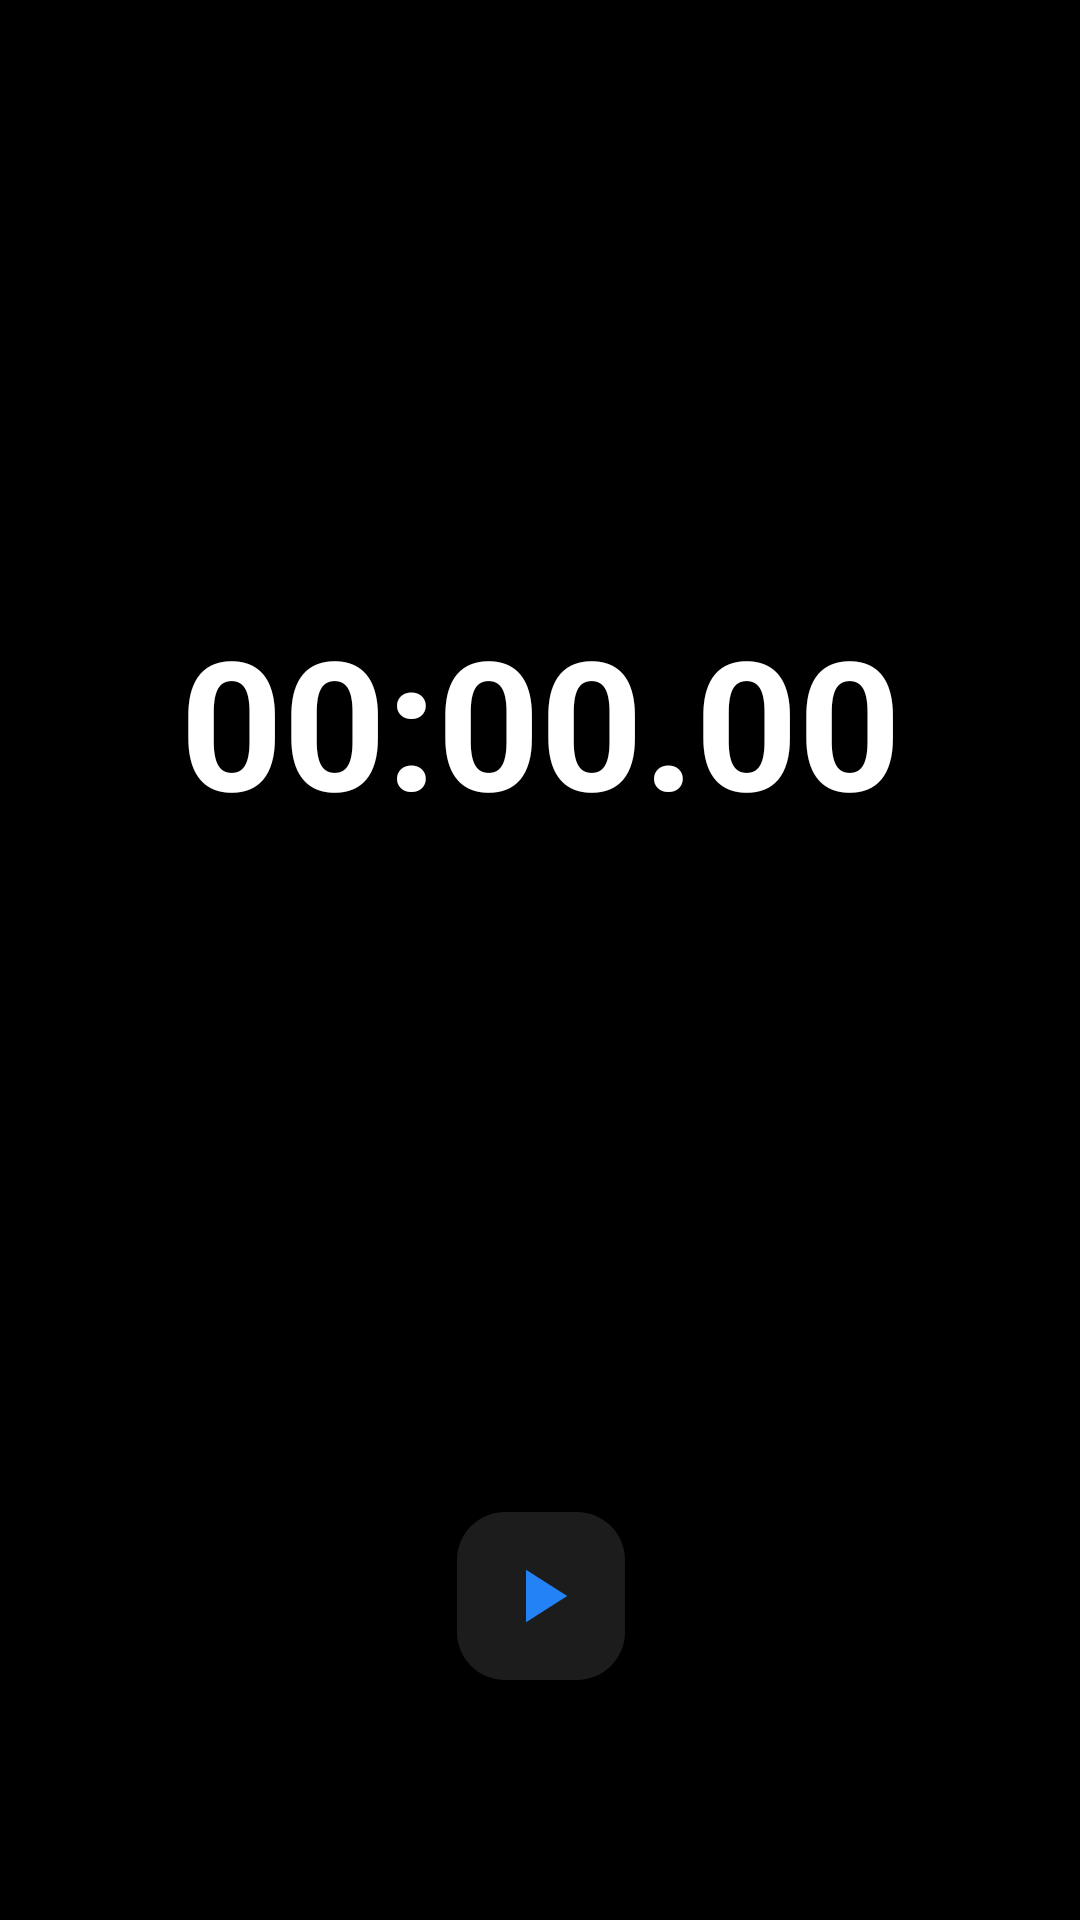

Named icons in this screenshot (1080px×1920px) and their centers, point (x, y):
play: point (541, 1596)
